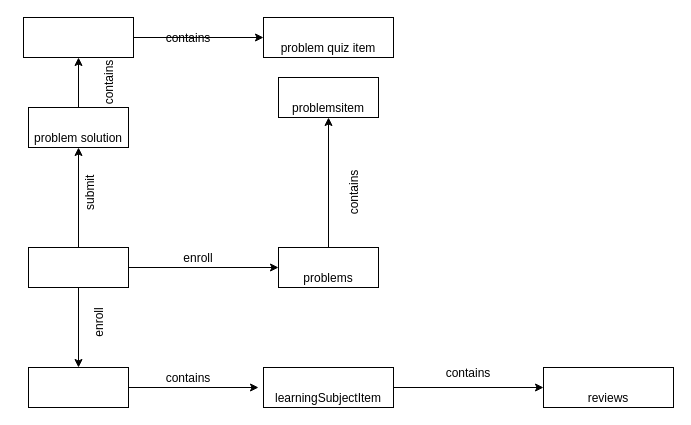
Image size: 691x425. Some labels were removed from this diagram. The centre of each missing label's shape, as x and y in pixels:
learningSubject: the point at 78,387
problem quizz: the point at 78,37
user: the point at 78,267
